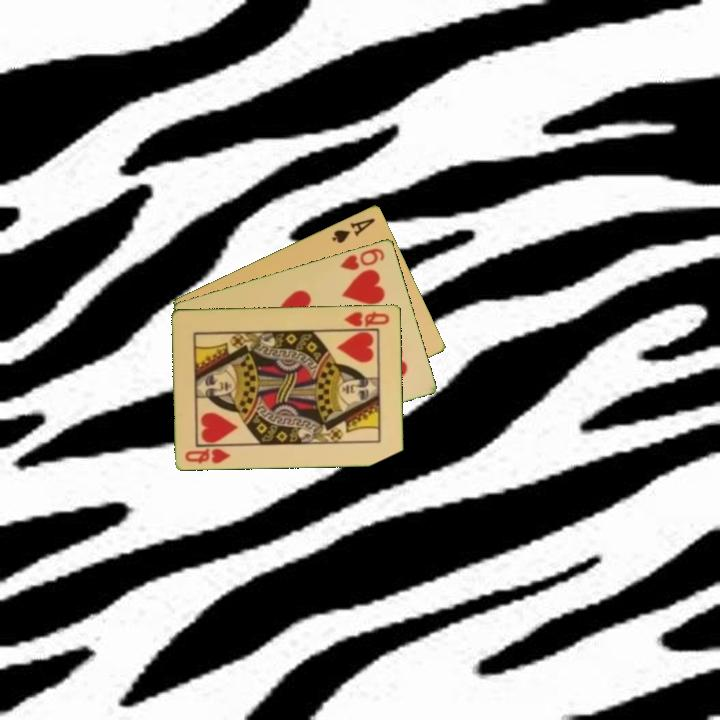6h: (337, 244, 388, 273)
As: (328, 214, 378, 246)
Qh: (340, 307, 393, 330), (182, 443, 234, 466)
